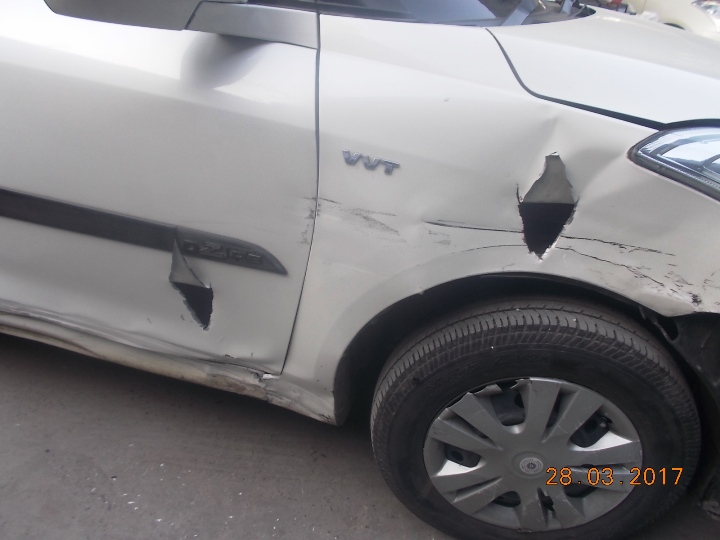Scratch_or_spot: (599, 234, 688, 291), (424, 209, 507, 249), (352, 209, 416, 237), (222, 370, 255, 386)
Tear: (512, 150, 587, 260), (151, 247, 228, 326)
